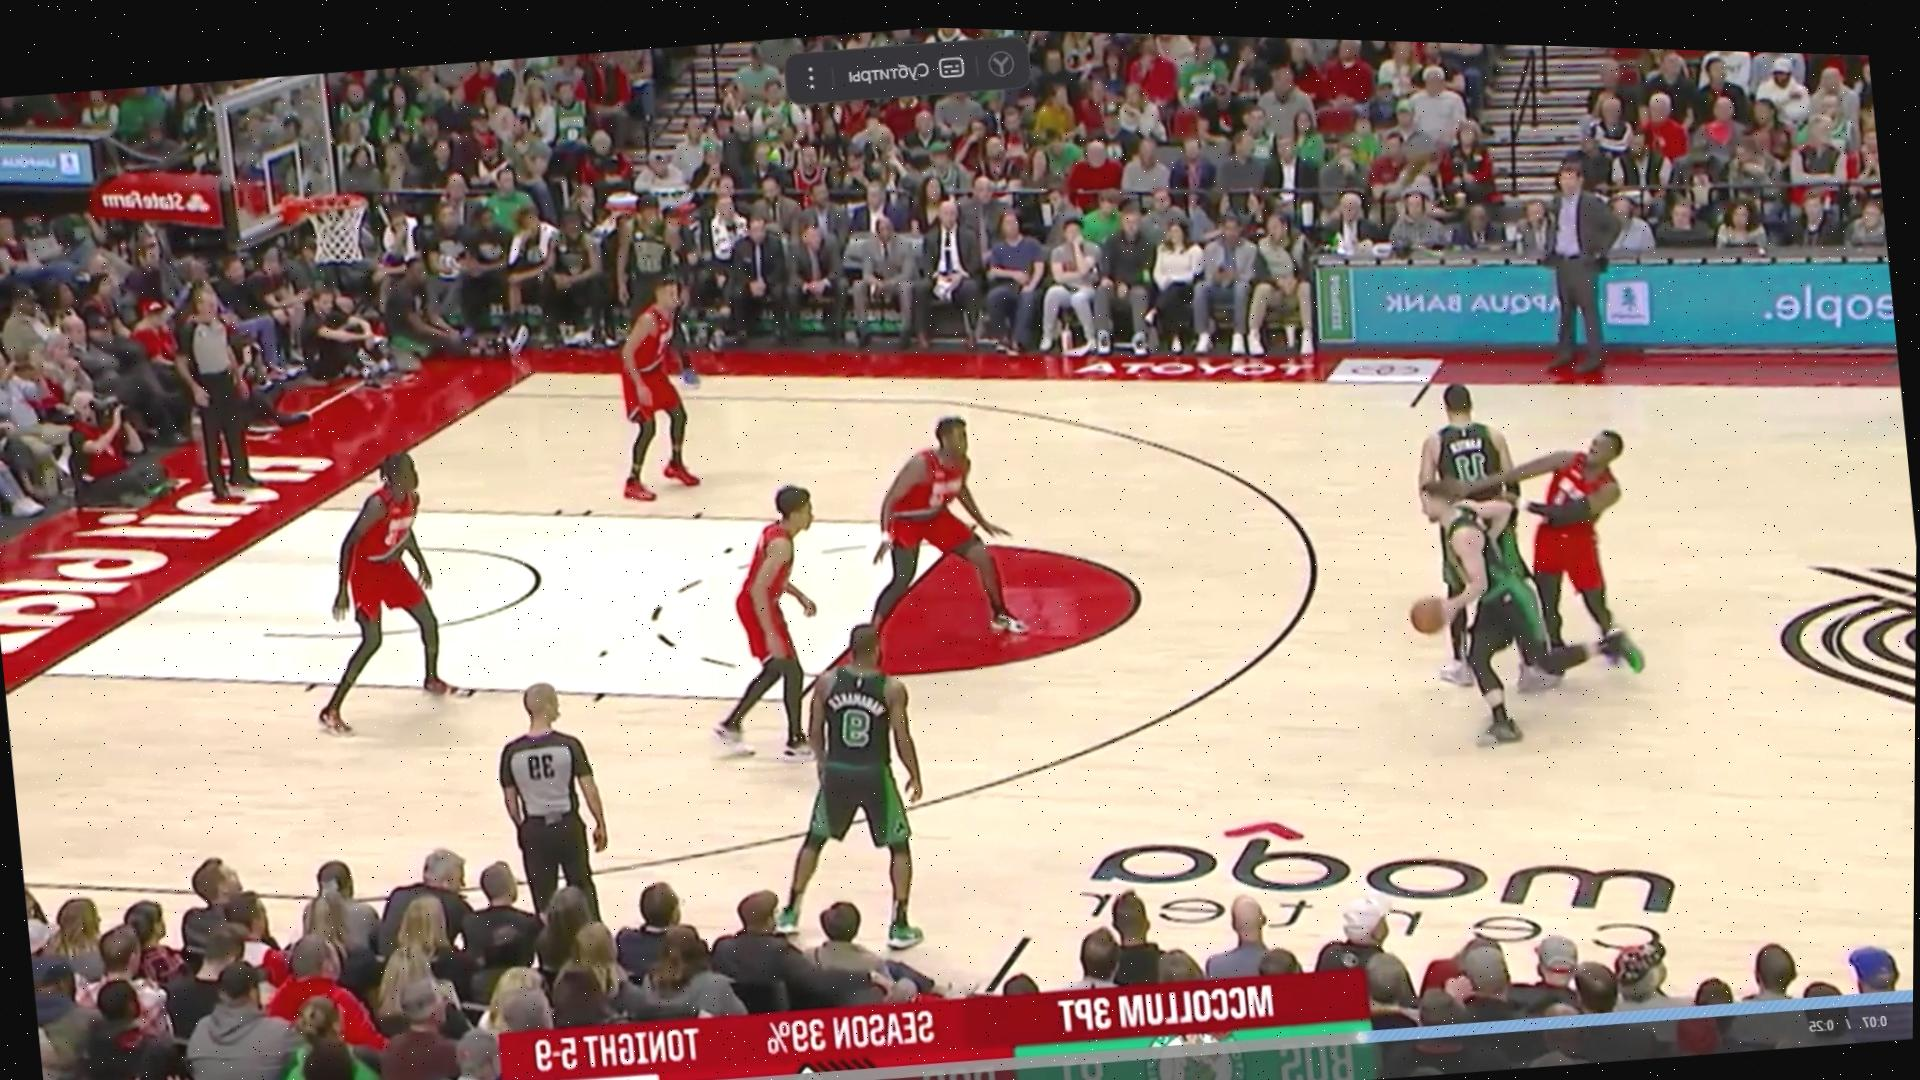foul: (1361, 375, 1673, 698)
